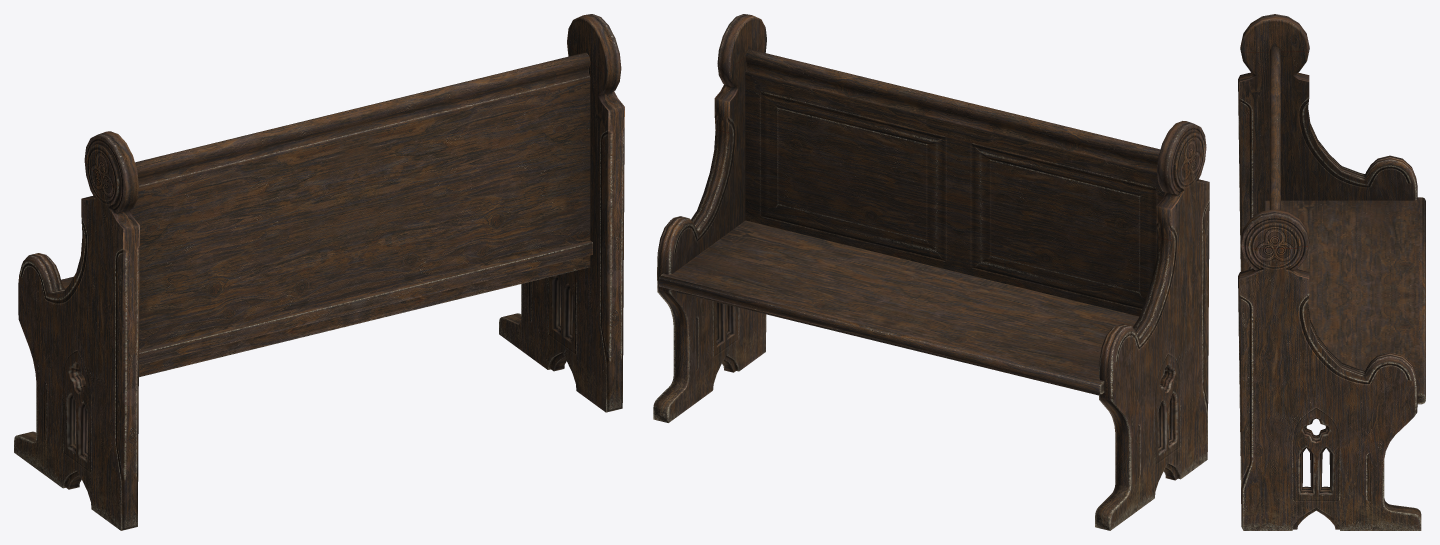
Rendered from church_bench_2.glb.
3 renders of one model, left to right at view 1: azimuth 30°, elevation 25°; view 2: azimuth 150°, elevation 25°; view 3: azimuth 270°, elevation 25°, orthographic. The views are drawn at different scales.
Visible parts, largest first — view 1: Object_2; view 2: Object_2; view 3: Object_2.
Boxes of the visible parts, x1,y1,x2,y2 form: Object_2: (14,14,624,530); Object_2: (653,14,1209,530); Object_2: (1238,14,1425,530).
Bounding box in the file's own units: 4.86 × 3.52 × 1.9.
Materials: 1 (1 with a texture image).
